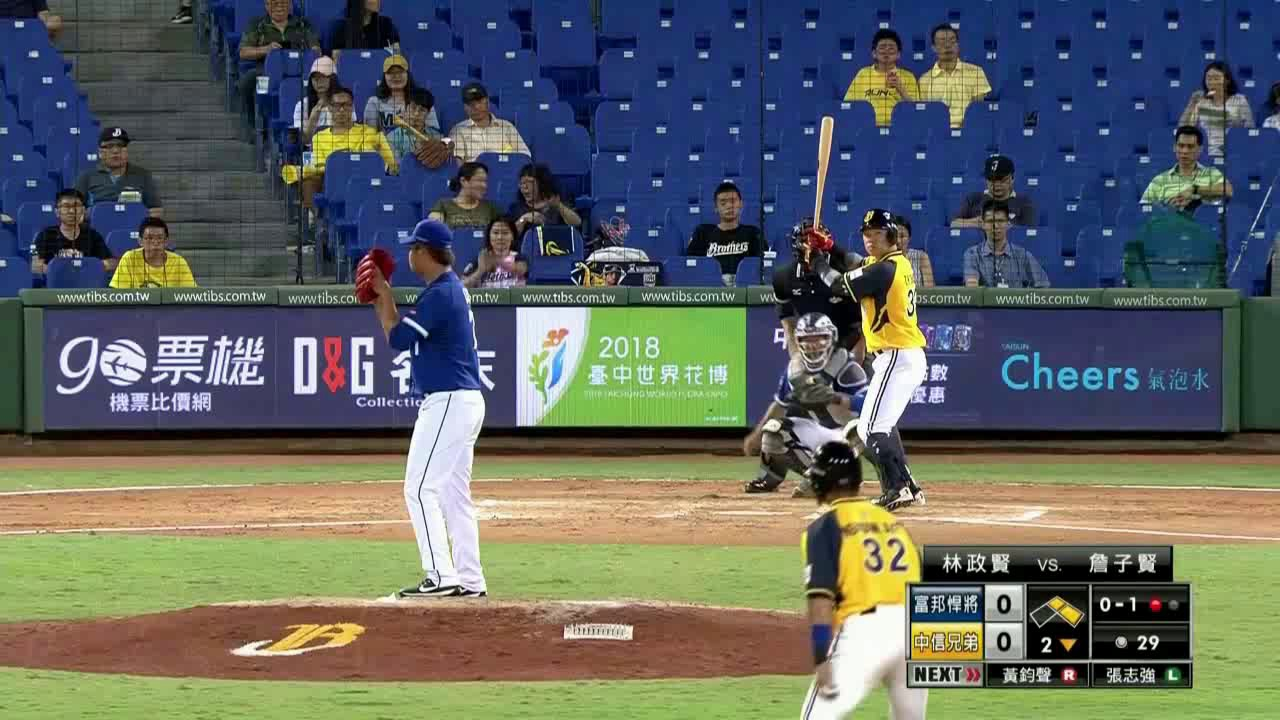base: (1027, 588, 1087, 628)
bat: (810, 113, 840, 232)
out: (1142, 588, 1186, 619)
score1: (988, 587, 1020, 617)
score2: (988, 626, 1020, 659)
session: (1028, 630, 1084, 661)
strikeball: (1093, 588, 1141, 621)
total: (1090, 627, 1186, 658)
